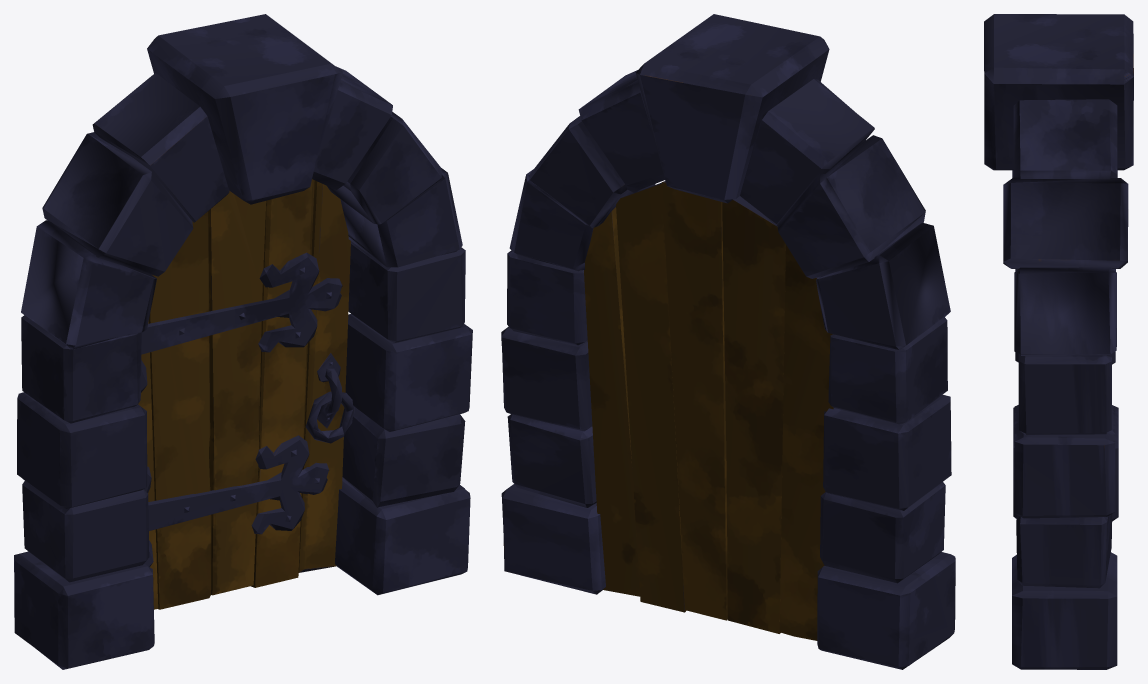
The model's file is DOOR.fbx.
3 views of the same model, side by side, from view 1: azimuth 30°, elevation 25°; view 2: azimuth 150°, elevation 25°; view 3: azimuth 270°, elevation 25° (orthographic). The views are drawn at different scales.
Parts seen in each view (by area): view 1: skull1, skull1.001; view 2: skull1, skull1.001; view 3: skull1.
Boxes of the visible parts, x1,y1,x2,y2 form: skull1: (14, 14, 472, 669); skull1.001: (138, 179, 354, 609); skull1: (501, 14, 955, 669); skull1.001: (584, 181, 833, 640); skull1: (984, 14, 1133, 669).
Size of the model in its own units: 348 by 449 by 113.
Materials: 1 (1 with a texture image).
